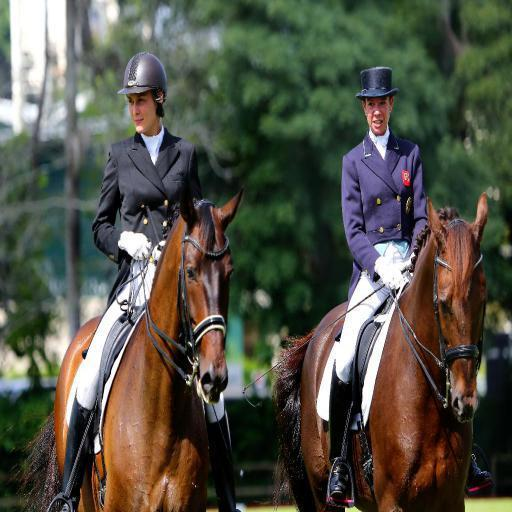horse: (10, 182, 246, 510), (271, 194, 489, 512)
